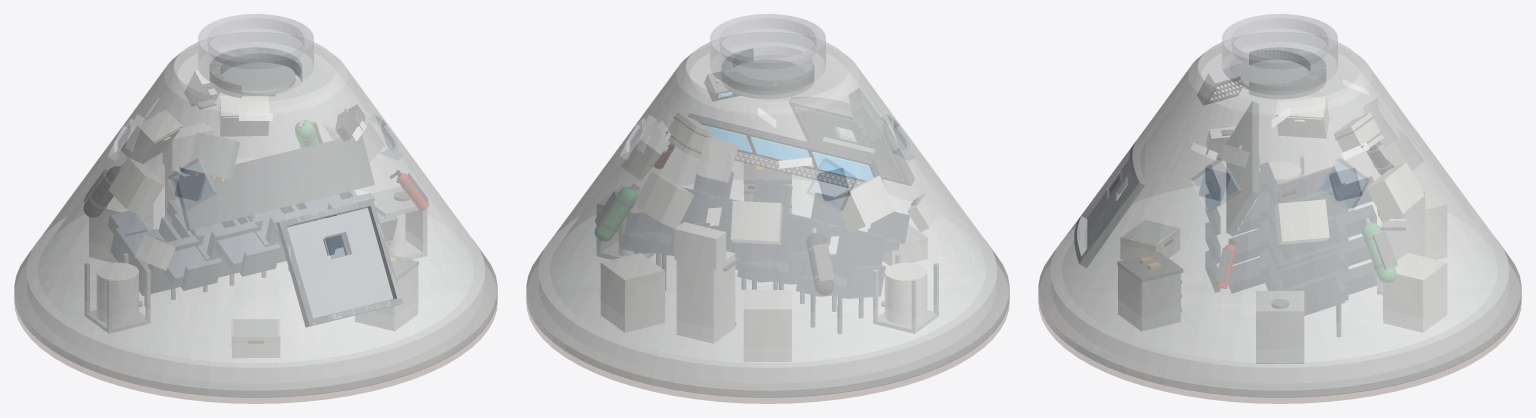
Rendered from cmd06_orion_capsule_combined.glb.
3 views of the same model, side by side, from view 1: azimuth 30°, elevation 25°; view 2: azimuth 150°, elevation 25°; view 3: azimuth 270°, elevation 25° (orthographic).
Visible parts, largest first — view 1: pressure_vessel, ext_backshell_upper, ext_backshell_lower, main_console, ext_docking_tunnel, hatch_door_1, stowage_lockers, seat_1, seat_2, ext_heat_shield, hatch_tunnel_1, eq11_1_tank (+21 smaller); view 2: pressure_vessel, ext_backshell_upper, ext_backshell_lower, ext_docking_tunnel, stowage_lockers, seat_1, seat_2, eq21_1_body, eq22_1_body, eq21_2_body, seat_4, ext_heat_shield (+24 smaller); view 3: pressure_vessel, ext_backshell_upper, ext_backshell_lower, ext_docking_tunnel, stowage_lockers, seat_4, eq21_1_body, seat_3, eq08_1_frame, ext_heat_shield, seat_1, eq00_1_case (+22 smaller).
Part boxes in pixels (x1=…): pressure_vessel: x1=15, y1=33, x2=496, y2=396; ext_backshell_upper: x1=27, y1=32, x2=484, y2=367; ext_backshell_lower: x1=14, y1=240, x2=497, y2=397; main_console: x1=174, y1=135, x2=374, y2=230; ext_docking_tunnel: x1=198, y1=14, x2=313, y2=90; hatch_door_1: x1=287, y1=208, x2=393, y2=318; stowage_lockers: x1=109, y1=96, x2=384, y2=217; seat_1: x1=108, y1=211, x2=221, y2=305; seat_2: x1=167, y1=199, x2=280, y2=291; ext_heat_shield: x1=14, y1=295, x2=497, y2=403; hatch_tunnel_1: x1=277, y1=199, x2=402, y2=327; eq11_1_tank: x1=97, y1=263, x2=138, y2=323; pressure_vessel: x1=527, y1=33, x2=1008, y2=396; ext_backshell_upper: x1=539, y1=32, x2=996, y2=367; ext_backshell_lower: x1=526, y1=240, x2=1009, y2=397; ext_docking_tunnel: x1=710, y1=14, x2=825, y2=90; stowage_lockers: x1=621, y1=121, x2=895, y2=244; seat_1: x1=796, y1=212, x2=909, y2=333; seat_2: x1=737, y1=193, x2=846, y2=303; eq21_1_body: x1=601, y1=253, x2=664, y2=332; eq22_1_body: x1=677, y1=251, x2=734, y2=343; eq21_2_body: x1=744, y1=290, x2=791, y2=361; seat_4: x1=620, y1=172, x2=733, y2=290; ext_heat_shield: x1=526, y1=295, x2=1009, y2=403; pressure_vessel: x1=1039, y1=33, x2=1520, y2=396; ext_backshell_upper: x1=1051, y1=32, x2=1508, y2=367; ext_backshell_lower: x1=1038, y1=240, x2=1521, y2=397; ext_docking_tunnel: x1=1222, y1=14, x2=1337, y2=90; stowage_lockers: x1=1274, y1=96, x2=1424, y2=244; seat_4: x1=1205, y1=248, x2=1376, y2=336; eq21_1_body: x1=1383, y1=253, x2=1446, y2=332; seat_3: x1=1205, y1=219, x2=1370, y2=269; eq08_1_frame: x1=1256, y1=291, x2=1303, y2=363; ext_heat_shield: x1=1038, y1=295, x2=1521, y2=403; seat_1: x1=1205, y1=162, x2=1373, y2=212; eq00_1_case: x1=1118, y1=266, x2=1180, y2=330.
Bounding box in the file's own units: 5 × 3.43 × 5.
